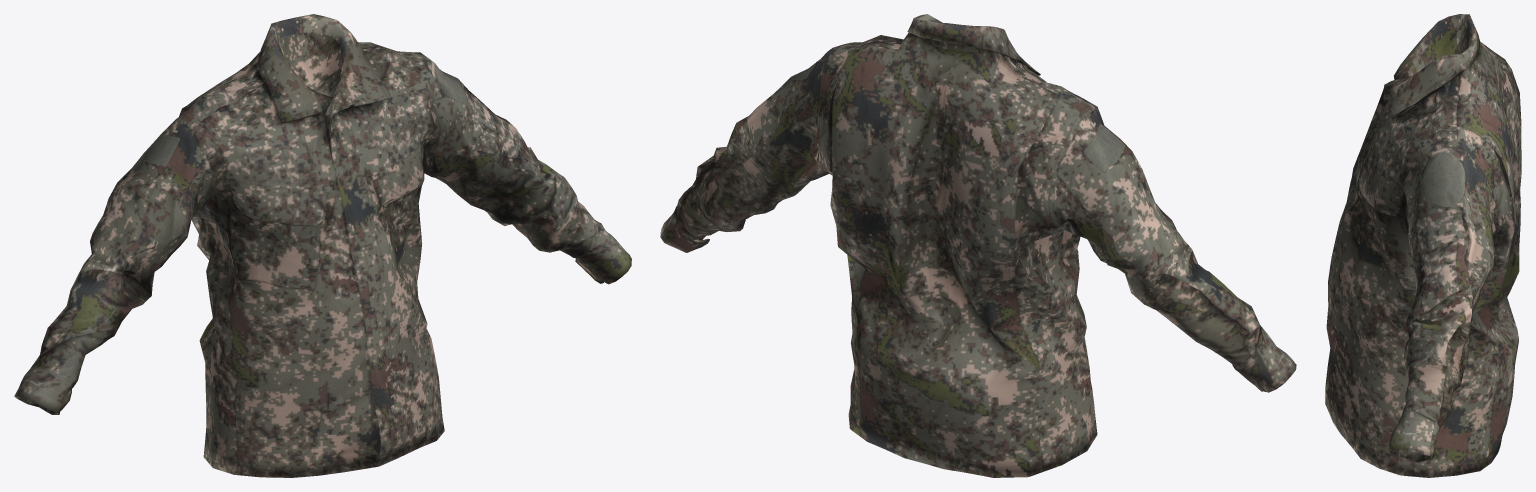
Rendered from low_poly_military_jacket_tactical_top (1).glb.
3 views of the same model, side by side, from view 1: azimuth 30°, elevation 25°; view 2: azimuth 150°, elevation 25°; view 3: azimuth 270°, elevation 25° (orthographic). The views are drawn at different scales.
Visible parts, largest first — view 1: default776563456_Material #45_0; view 2: default776563456_Material #45_0; view 3: default776563456_Material #45_0.
Part boxes in pixels (bbox=[...]): default776563456_Material #45_0: bbox=[14, 14, 631, 477]; default776563456_Material #45_0: bbox=[660, 14, 1296, 477]; default776563456_Material #45_0: bbox=[1325, 14, 1521, 477].
Size of the model in its own units: 1.31 by 0.8622 by 0.3776.
Materials: 1 (1 with a texture image).
